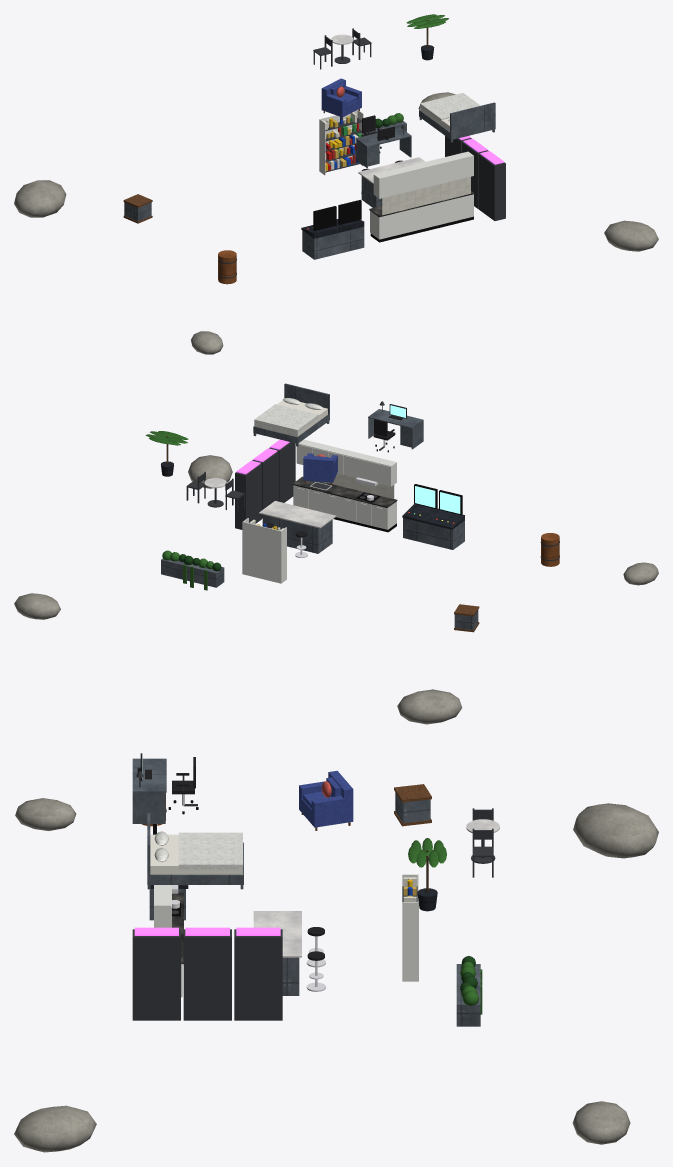
Rendered from i_pod_solar.gltf.
3 renders of one model, top to bottom at view 1: azimuth 30°, elevation 25°; view 2: azimuth 150°, elevation 25°; view 3: azimuth 270°, elevation 25°, orthographic. The views are drawn at different scales.
Parts seen in each view (by area): view 1: I_pod_solar; view 2: I_pod_solar; view 3: I_pod_solar.
Boxes of the visible parts, box(x1,y1,x2,y2) form: I_pod_solar: box(14, 14, 658, 354); I_pod_solar: box(14, 383, 658, 724); I_pod_solar: box(14, 753, 658, 1152).
Size of the model in its own units: 16.65 by 5.48 by 13.35.
Materials: 34 (13 with a texture image).
